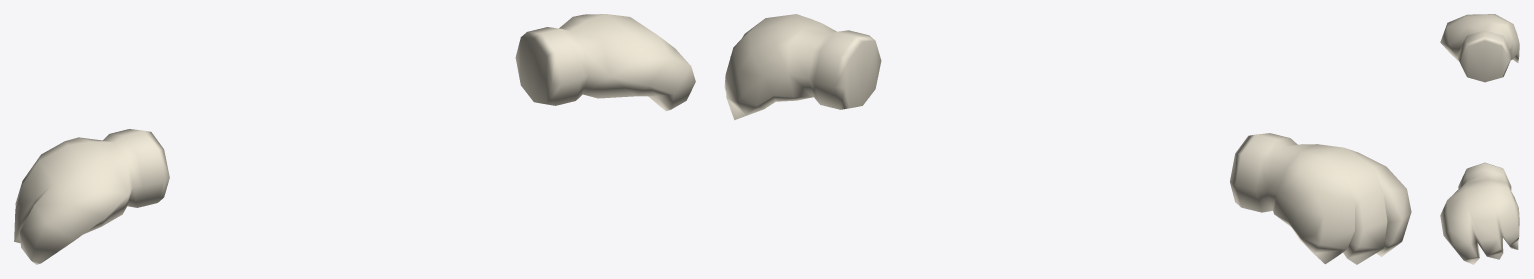
Rendered from Glove_22.fbx.
The picture shows the model from 3 angles, left to right: view 1: azimuth 30°, elevation 25°; view 2: azimuth 150°, elevation 25°; view 3: azimuth 270°, elevation 25°; orthographic projection. The views are drawn at different scales.
Parts seen in each view (by area): view 1: Glove_22; view 2: Glove_22; view 3: Glove_22.
Boxes of the visible parts, left/top/right/bottom form: Glove_22: left=14, top=14, right=695, bottom=264; Glove_22: left=724, top=14, right=1411, bottom=264; Glove_22: left=1440, top=14, right=1519, bottom=264.
Bounding box in the file's own units: 142 × 20.28 × 22.45.
